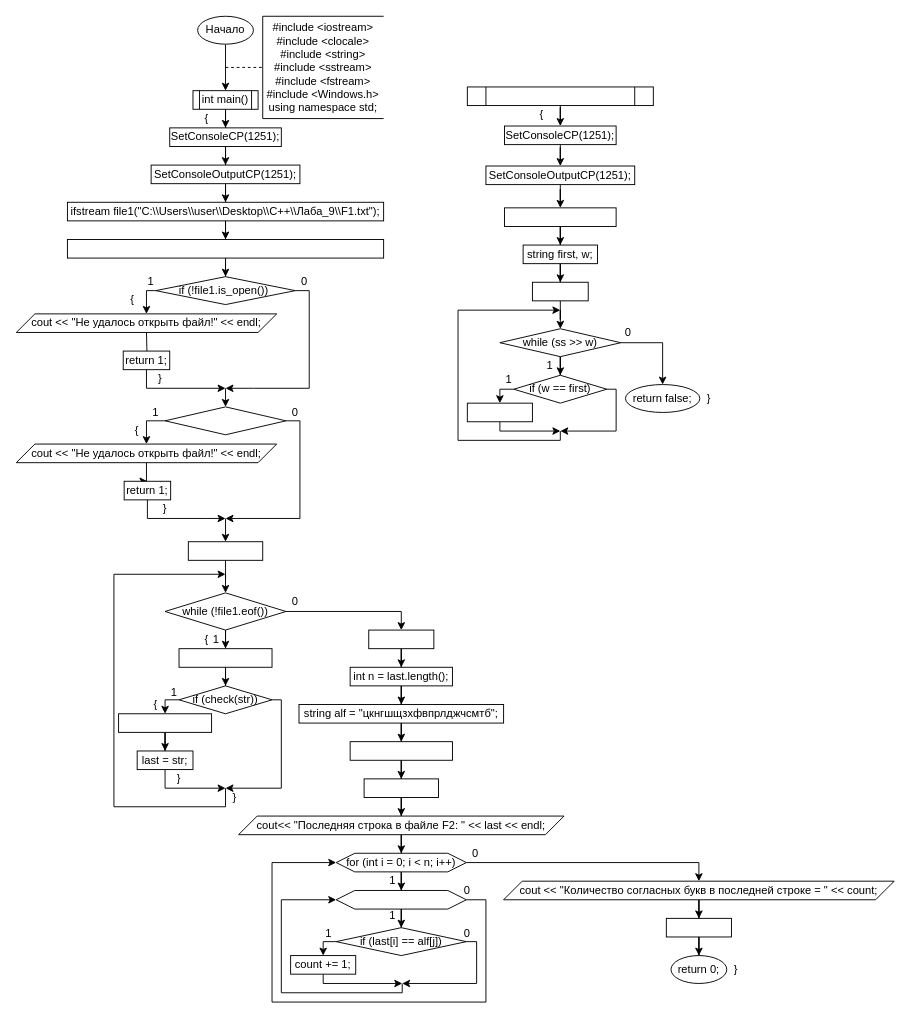
Image size: 910x1026. Some labels were removed from this diagram. Here are the shapes that lost their labels. From the top down, the centre of each, then its label:
point (559, 96): bool check(const string& str)
point (560, 216): istringstream ss(str);
point (225, 248): ofstream file2("C:\\Users\\user\\Desktop\\C++\\Лаба_9\\F2.txt");
point (559, 291): ss >> first;
point (225, 420): if (!file2.is_open())
point (499, 412): return true;
point (225, 550): string str, last;
point (225, 657): getline(file1, str);
point (401, 639): file1.close();
point (165, 722): file2 << str << '\n';
point (400, 750): int m = alf.length();
point (400, 787): int count = 0;
point (400, 899): for (int j = 0; j < m; j++)
point (698, 927): file2.close();
